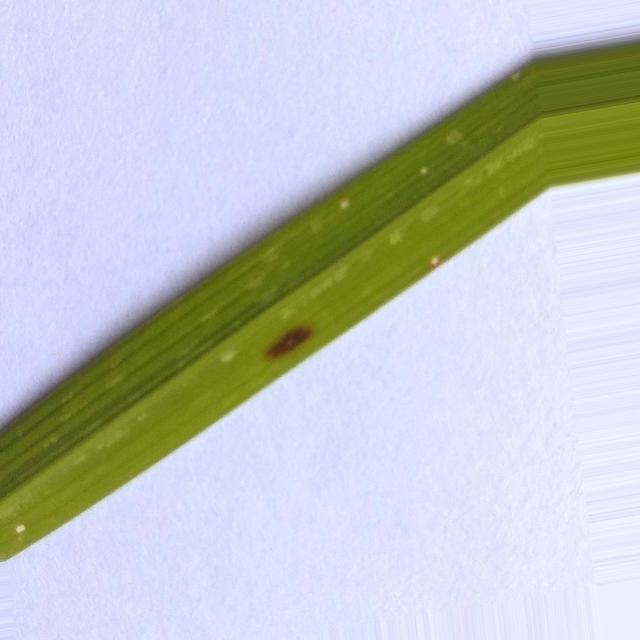Brown_Spot: (268, 328, 311, 358)
